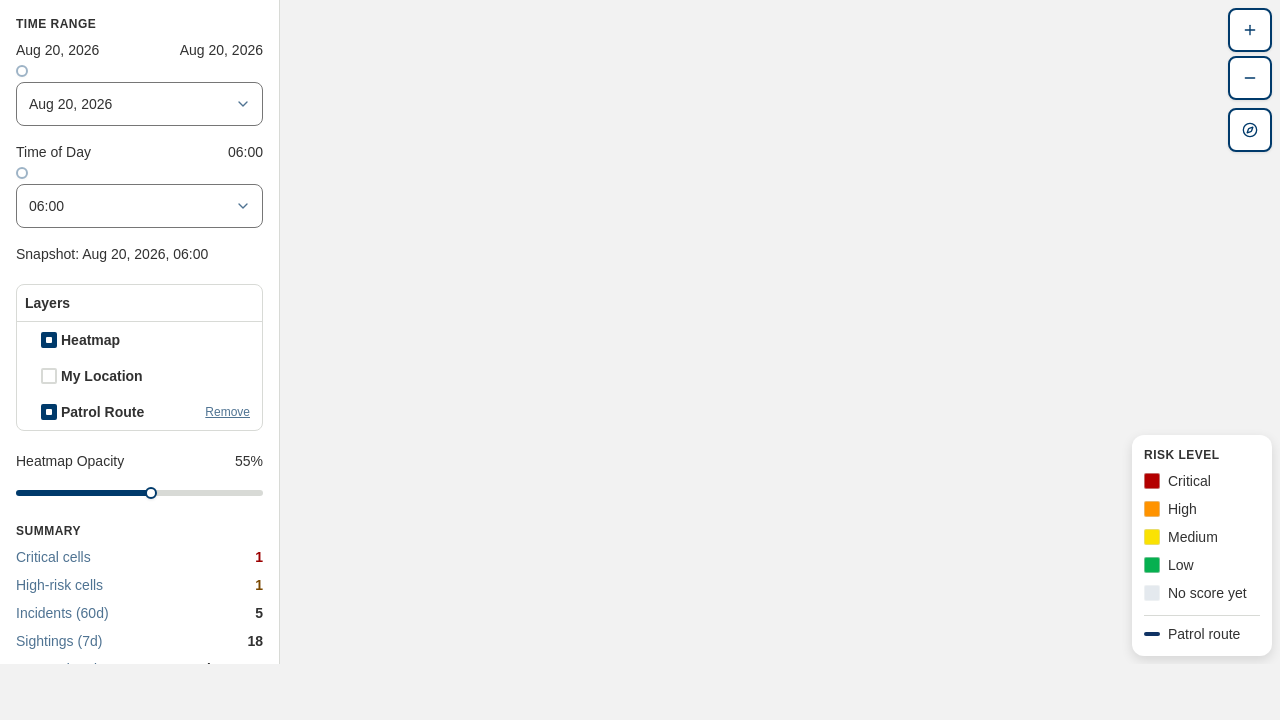
Test: MapPage › forgets the route on this device when Remove is clicked
The image size is (1280, 720).
Expected: the checkbox named "patrol route" is shown, [41,404,57,420]
Step 1. Click the button "Remove" → (228, 412), box [201,404,254,420]
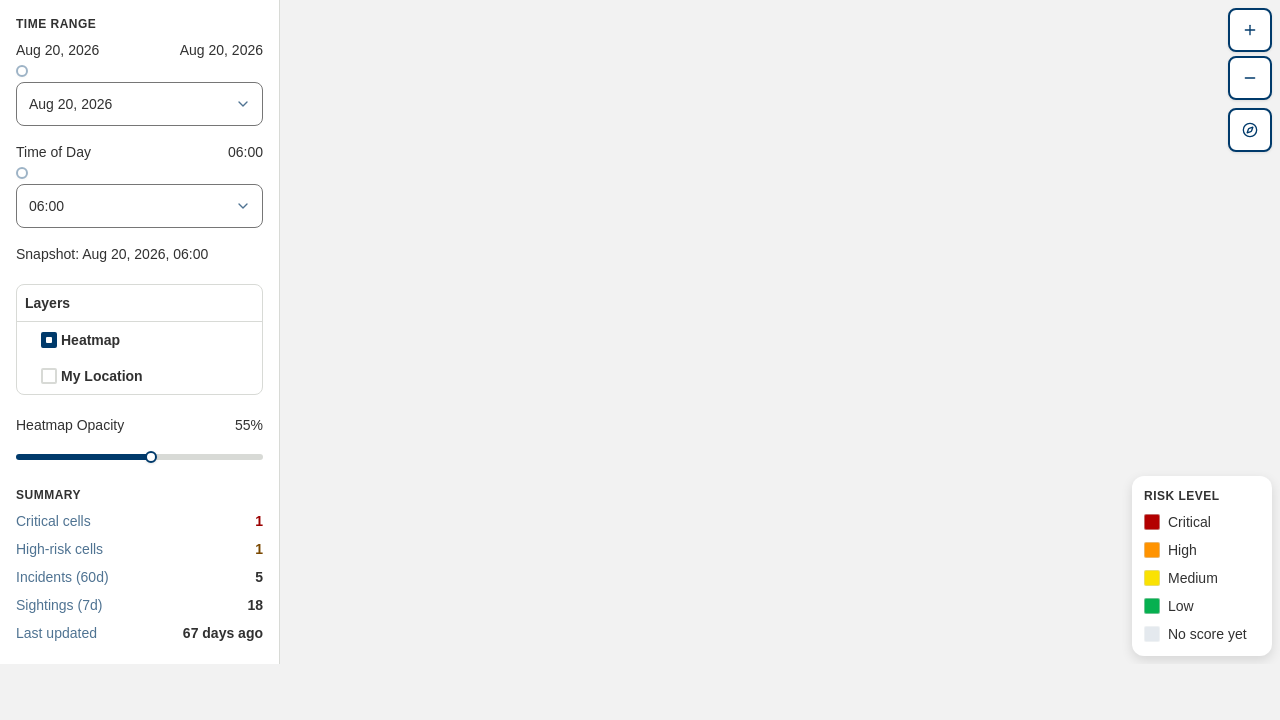
Now the button "Patrol Route" is gone
